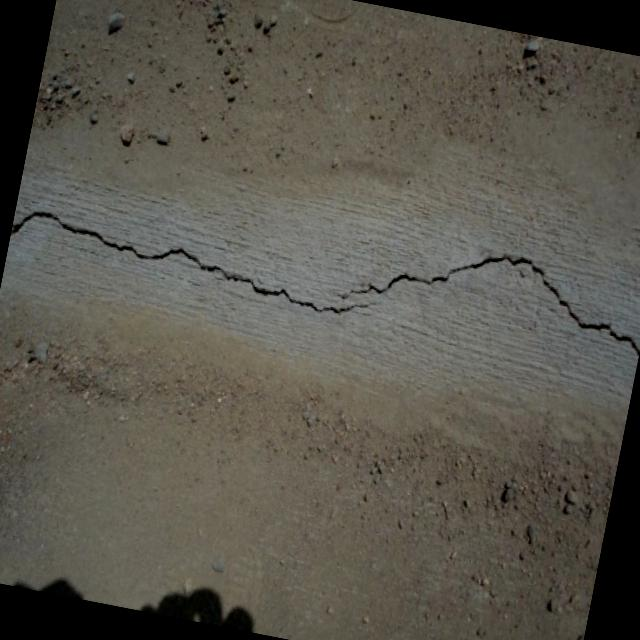crack: (7, 158, 640, 380)
